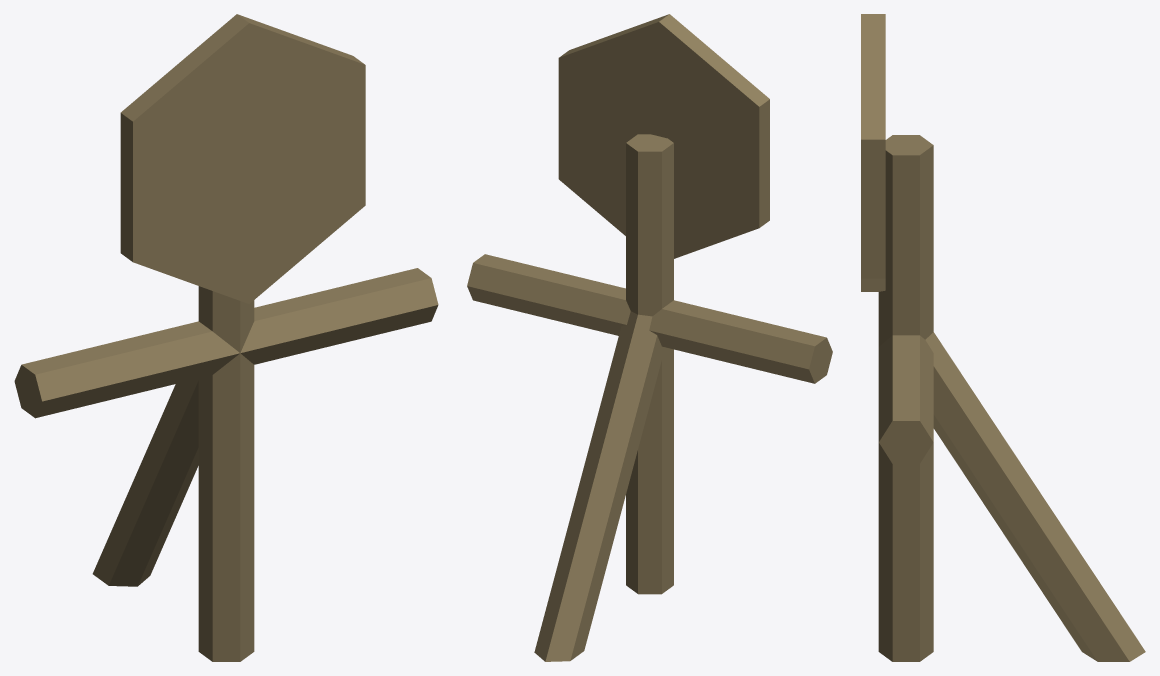
Rendered from Target.fbx.
3 views of the same model, side by side, from view 1: azimuth 30°, elevation 25°; view 2: azimuth 150°, elevation 25°; view 3: azimuth 270°, elevation 25° (orthographic). The views are drawn at different scales.
Visible parts, largest first — view 1: Cylinder.004, Cylinder.001, Cylinder.003, Cylinder.002; view 2: Cylinder.004, Cylinder.003, Cylinder.002, Cylinder.001; view 3: Cylinder.003, Cylinder.002, Cylinder.004, Cylinder.001.
Part boxes in pixels (left/top/right/bottom): Cylinder.004: left=120, top=14, right=365, bottom=303; Cylinder.001: left=14, top=268, right=438, bottom=418; Cylinder.003: left=198, top=286, right=254, bottom=661; Cylinder.002: left=92, top=378, right=199, bottom=586; Cylinder.004: left=558, top=14, right=769, bottom=258; Cylinder.003: left=626, top=134, right=673, bottom=594; Cylinder.002: left=534, top=311, right=664, bottom=661; Cylinder.001: left=467, top=254, right=832, bottom=383; Cylinder.003: left=878, top=135, right=933, bottom=661; Cylinder.002: left=925, top=332, right=1145, bottom=661; Cylinder.004: left=861, top=14, right=885, bottom=291; Cylinder.001: left=878, top=335, right=933, bottom=463.
Size of the model in its own units: 200 by 311 by 126.
